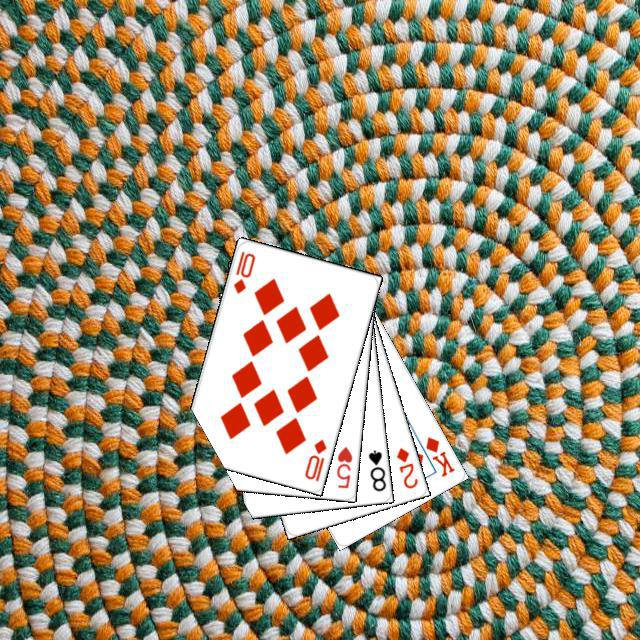10d: (228, 246, 257, 295), (300, 434, 328, 483)
2d: (391, 442, 419, 490)
5h: (332, 441, 354, 490)
8s: (363, 445, 387, 493)
Kd: (420, 432, 456, 479)
